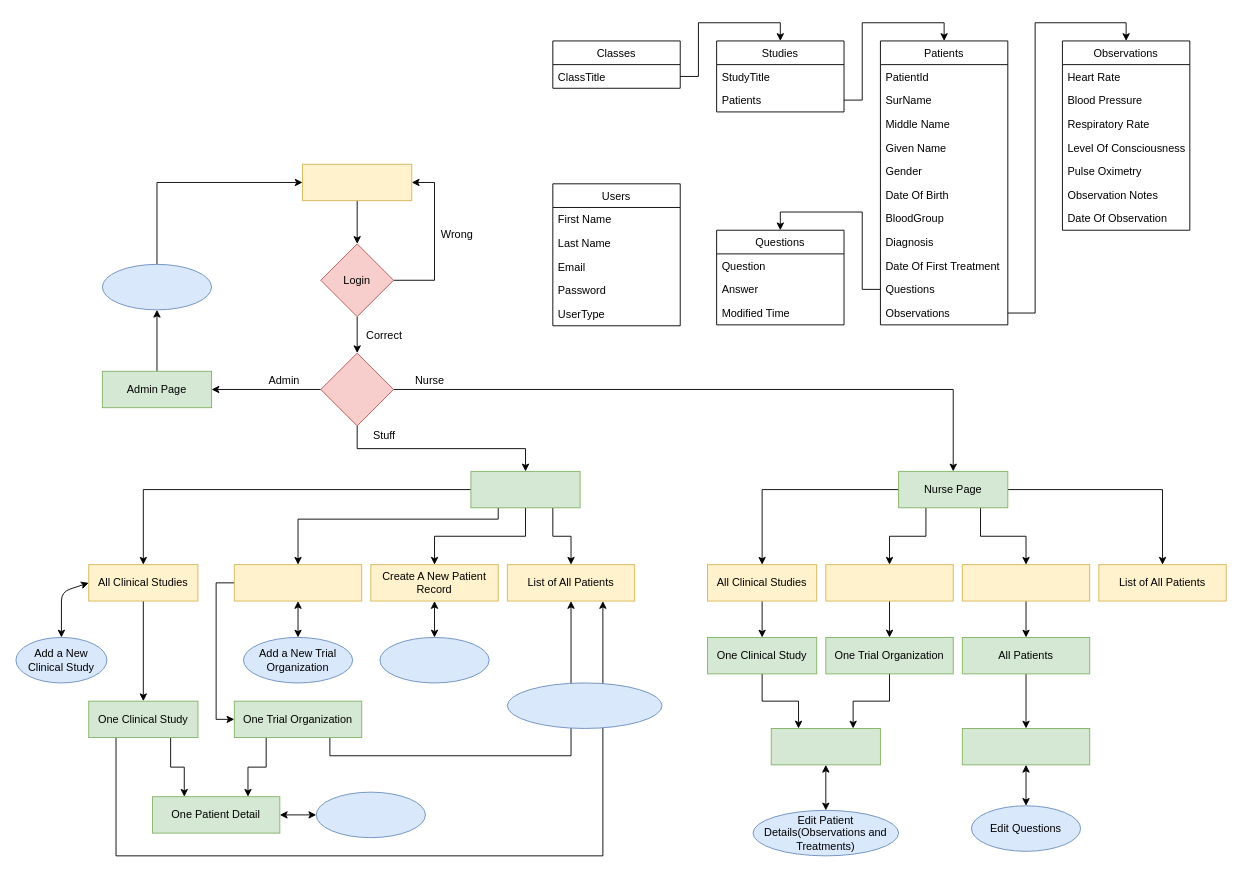
The diagram is 1242 pixels wide and 879 high, and some of its shapes have lost their labels. Here are the shapes that lost their labels. From the top down, the centre of each, then its label:
the point at 357,182: Login Page
the point at 156,286: Create A New User
the point at 357,389: User Type Check
the point at 525,489: Stuff Page
the point at 297,582: All Trial Organization
the point at 889,582: All Trial Organizations
the point at 1025,582: Questionnaire
the point at 434,660: Add a New Patient
the point at 584,705: Choose One Patient
the point at 825,746: Patient Details
the point at 1025,746: Questions for One Patient
the point at 370,814: Edit Patient Info
